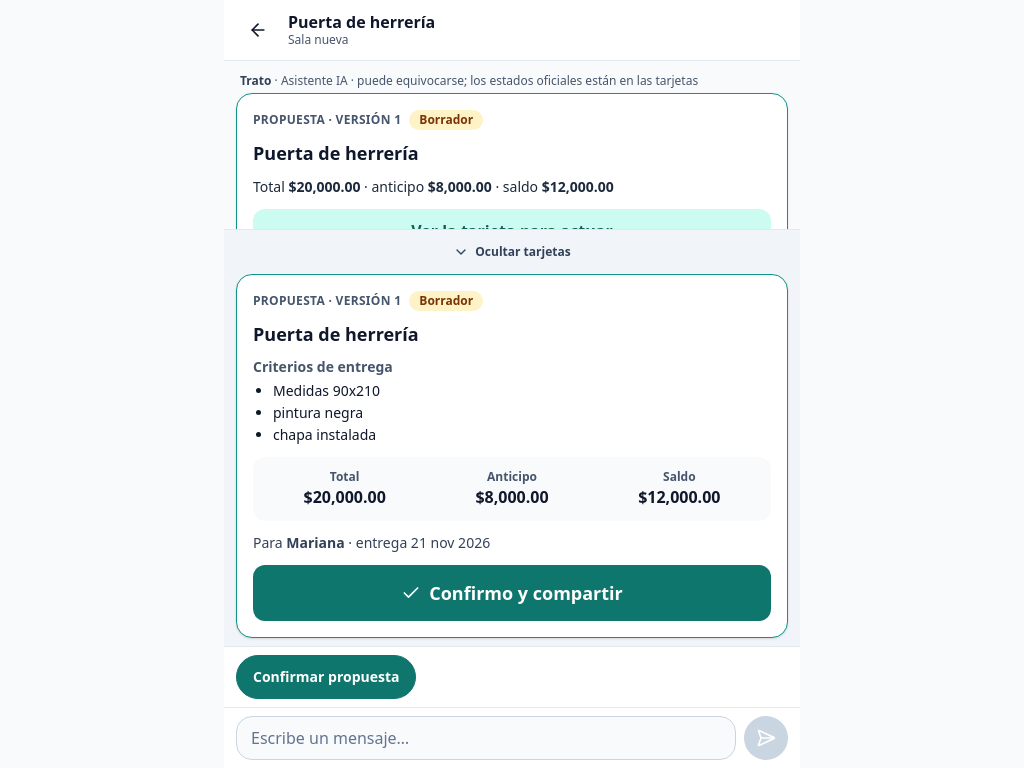
Test: Room › seller: confirmar la versión 1 (sin acuerdo previo) abre la hoja de compartir con el shareUrl de la respuesta
Click the button "Confirmo y compartir" at (512, 593), box left=253, top=565, right=771, bottom=621
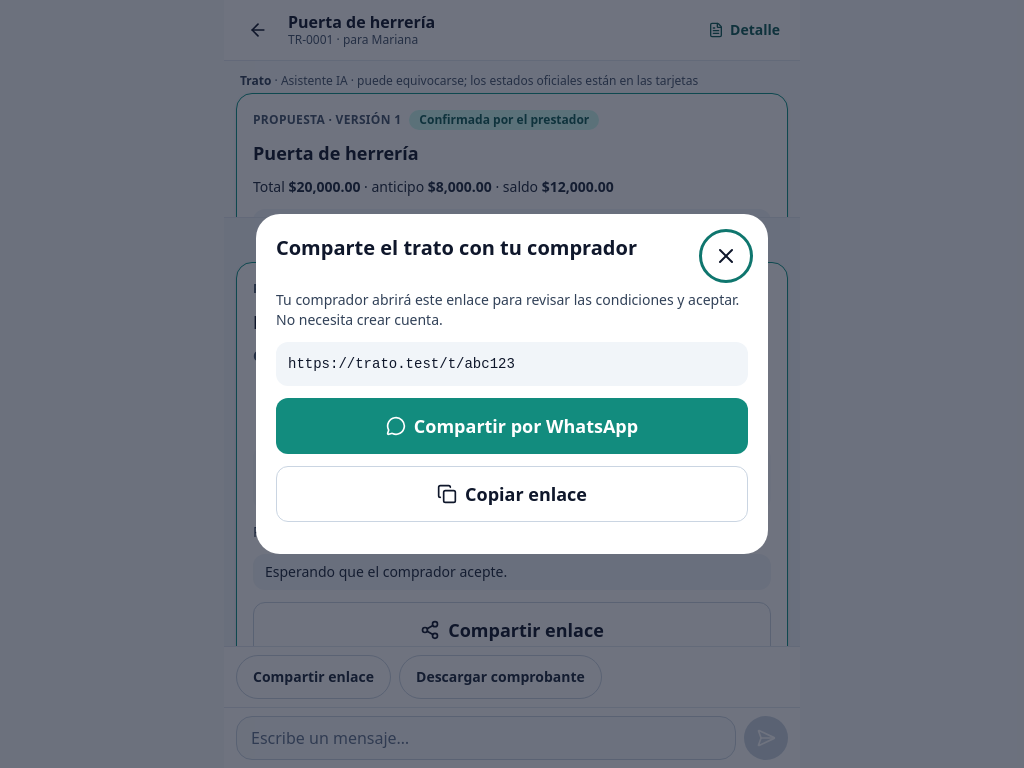
Result: the dialog shows "https://trato.test/t/abc123" at left=288, top=356, right=515, bottom=372
